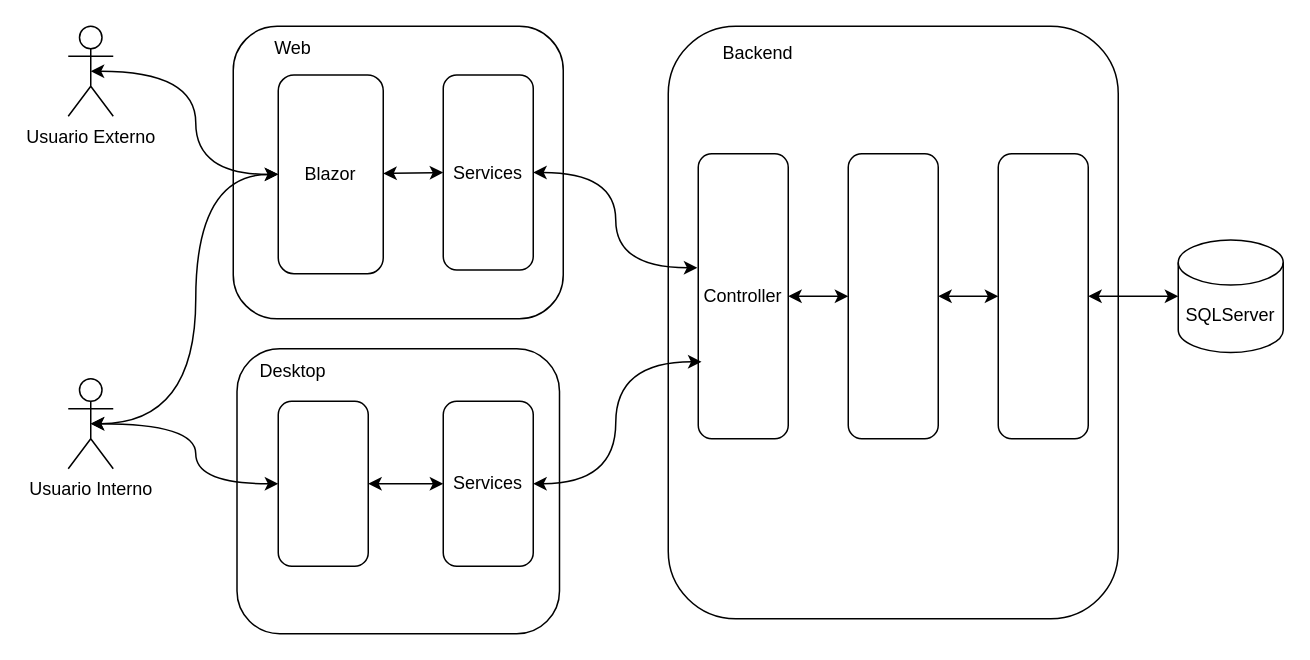
Some shapes in this 1310 by 660 pixel diagram are drawn without their labels. The shapes that lost their labels are listed below. From the top down, each one's centre as x and y in pixels, then its label:
point 892,295: ASP.NET
point 1042,295: Entity FW
point 322,483: WinForms
